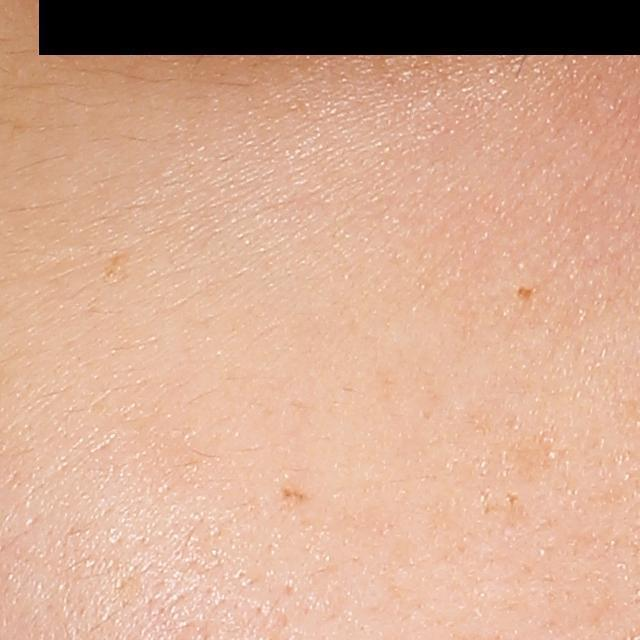melasma: (94, 250, 133, 286)
nevus: (515, 281, 532, 304)
